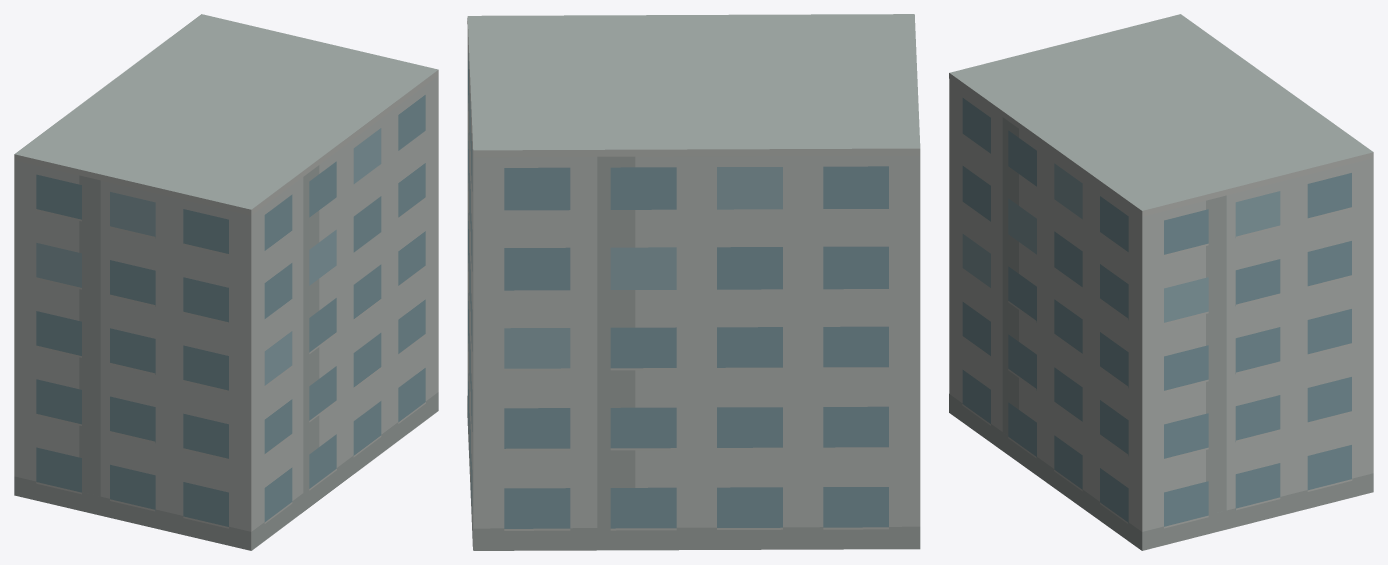
File: survey-upis-33001150.glb
The picture shows the model from 3 angles, left to right: view 1: azimuth 30°, elevation 25°; view 2: azimuth 150°, elevation 25°; view 3: azimuth 270°, elevation 25°; orthographic projection. The views are drawn at different scales.
Parts seen in each view (by area): view 1: survey-upis-33001150.tmp; view 2: survey-upis-33001150.tmp; view 3: survey-upis-33001150.tmp.
Part boxes in pixels (x1=…): survey-upis-33001150.tmp: x1=14, y1=14, x2=438, y2=550; survey-upis-33001150.tmp: x1=467, y1=14, x2=920, y2=550; survey-upis-33001150.tmp: x1=949, y1=14, x2=1373, y2=550.
Size of the model in its own units: 17.4 by 14 by 15.85.
